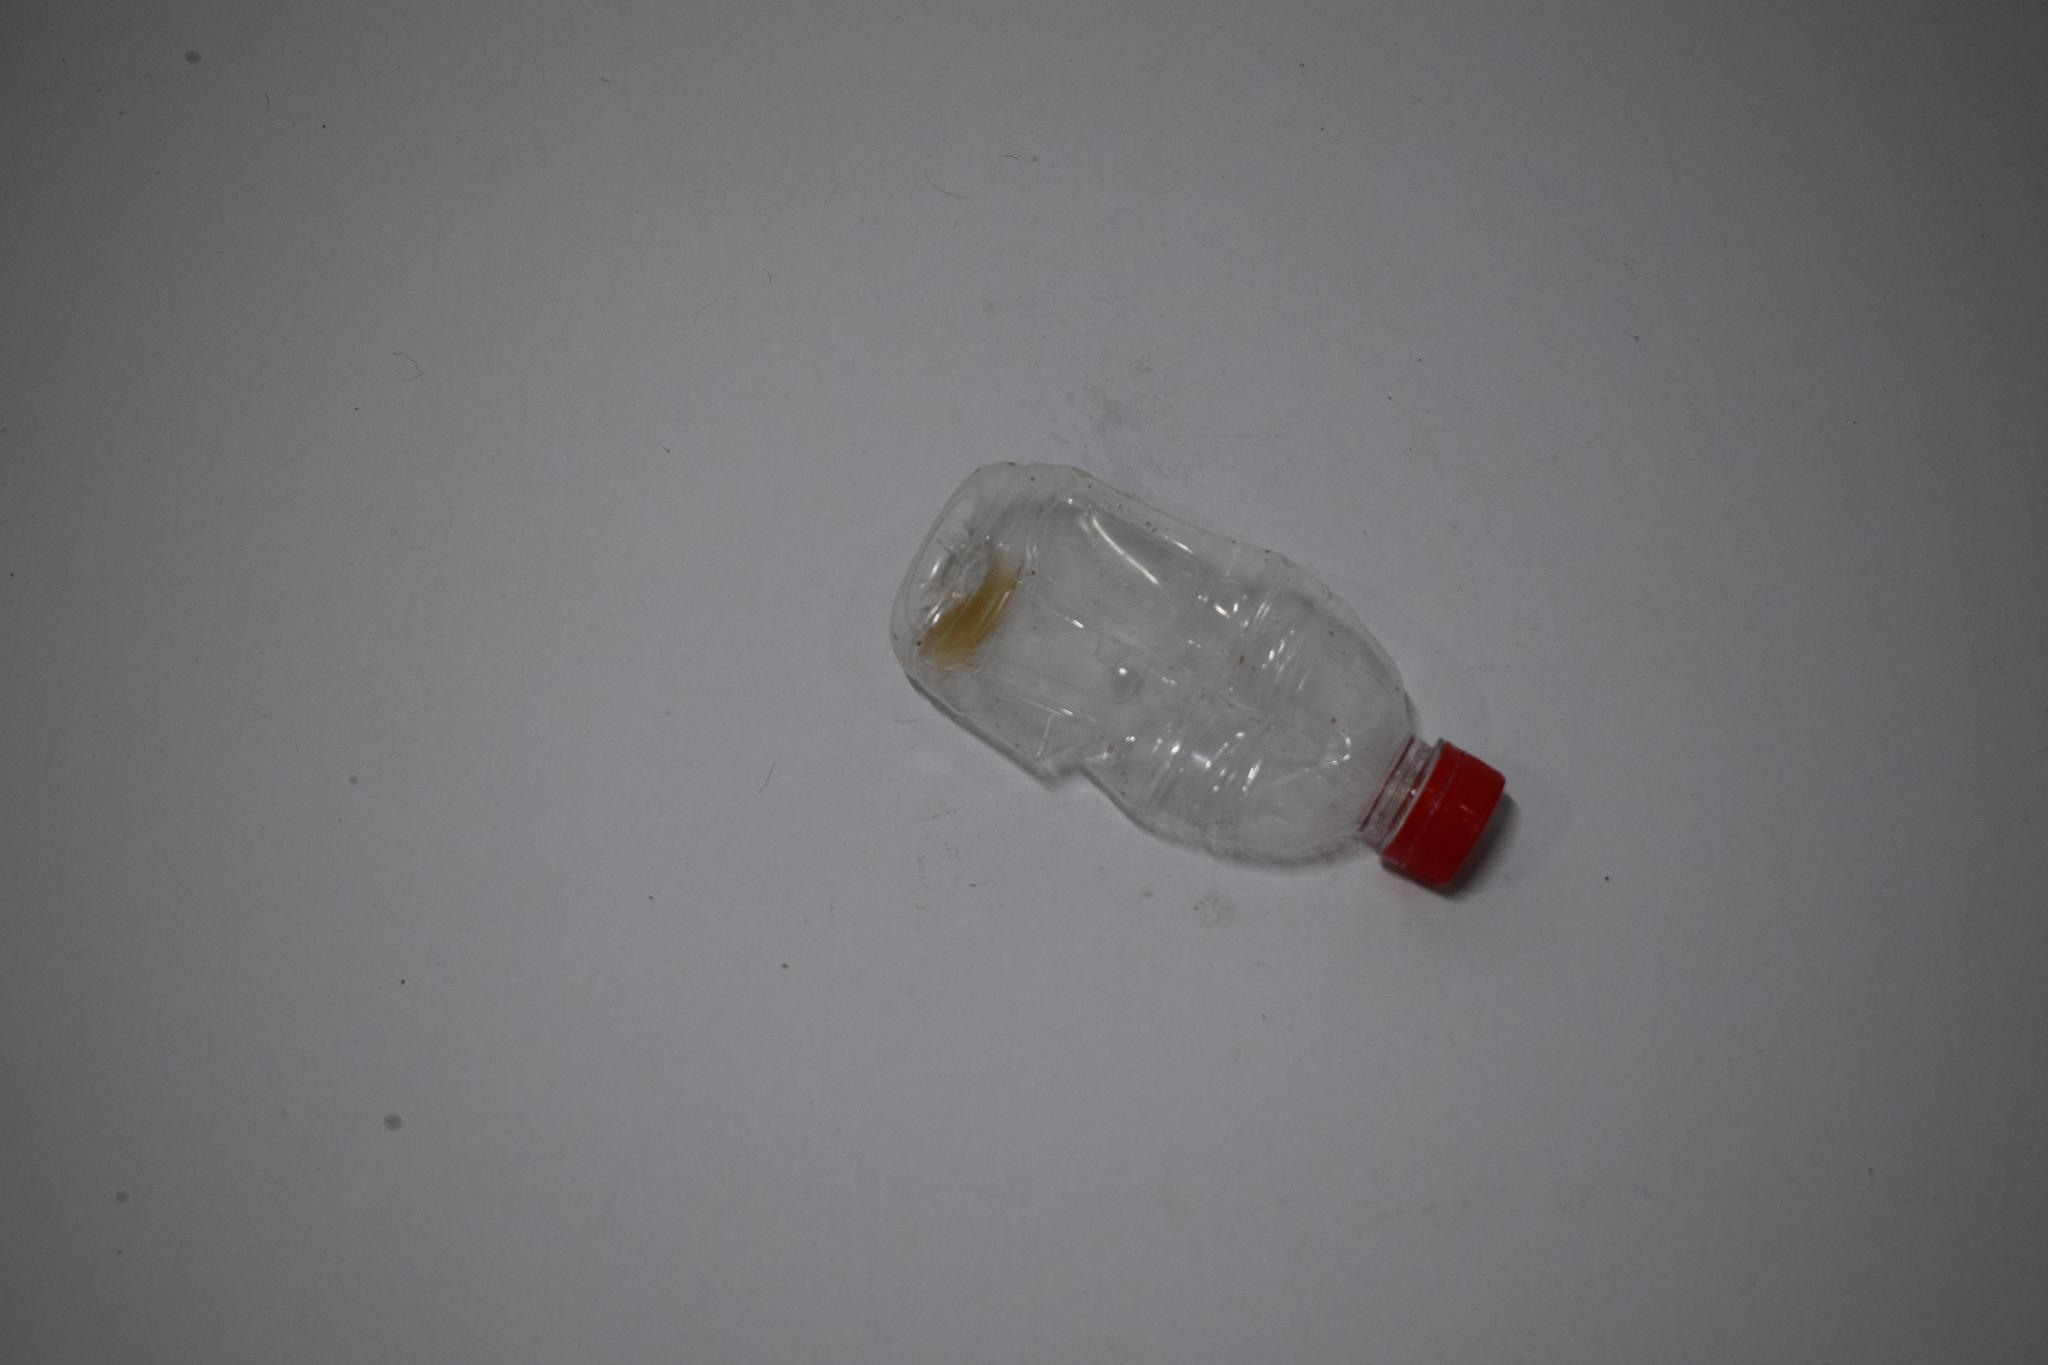bottle: (888, 434, 1526, 920)
